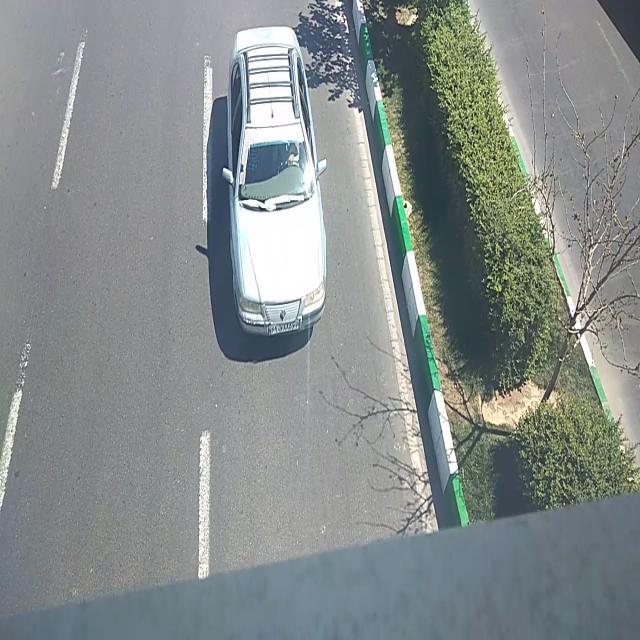car: (218, 25, 328, 336)
